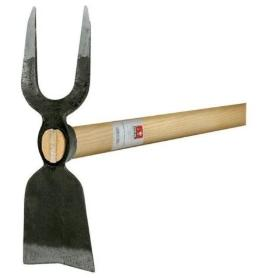HOUE: (12, 0, 267, 278)
